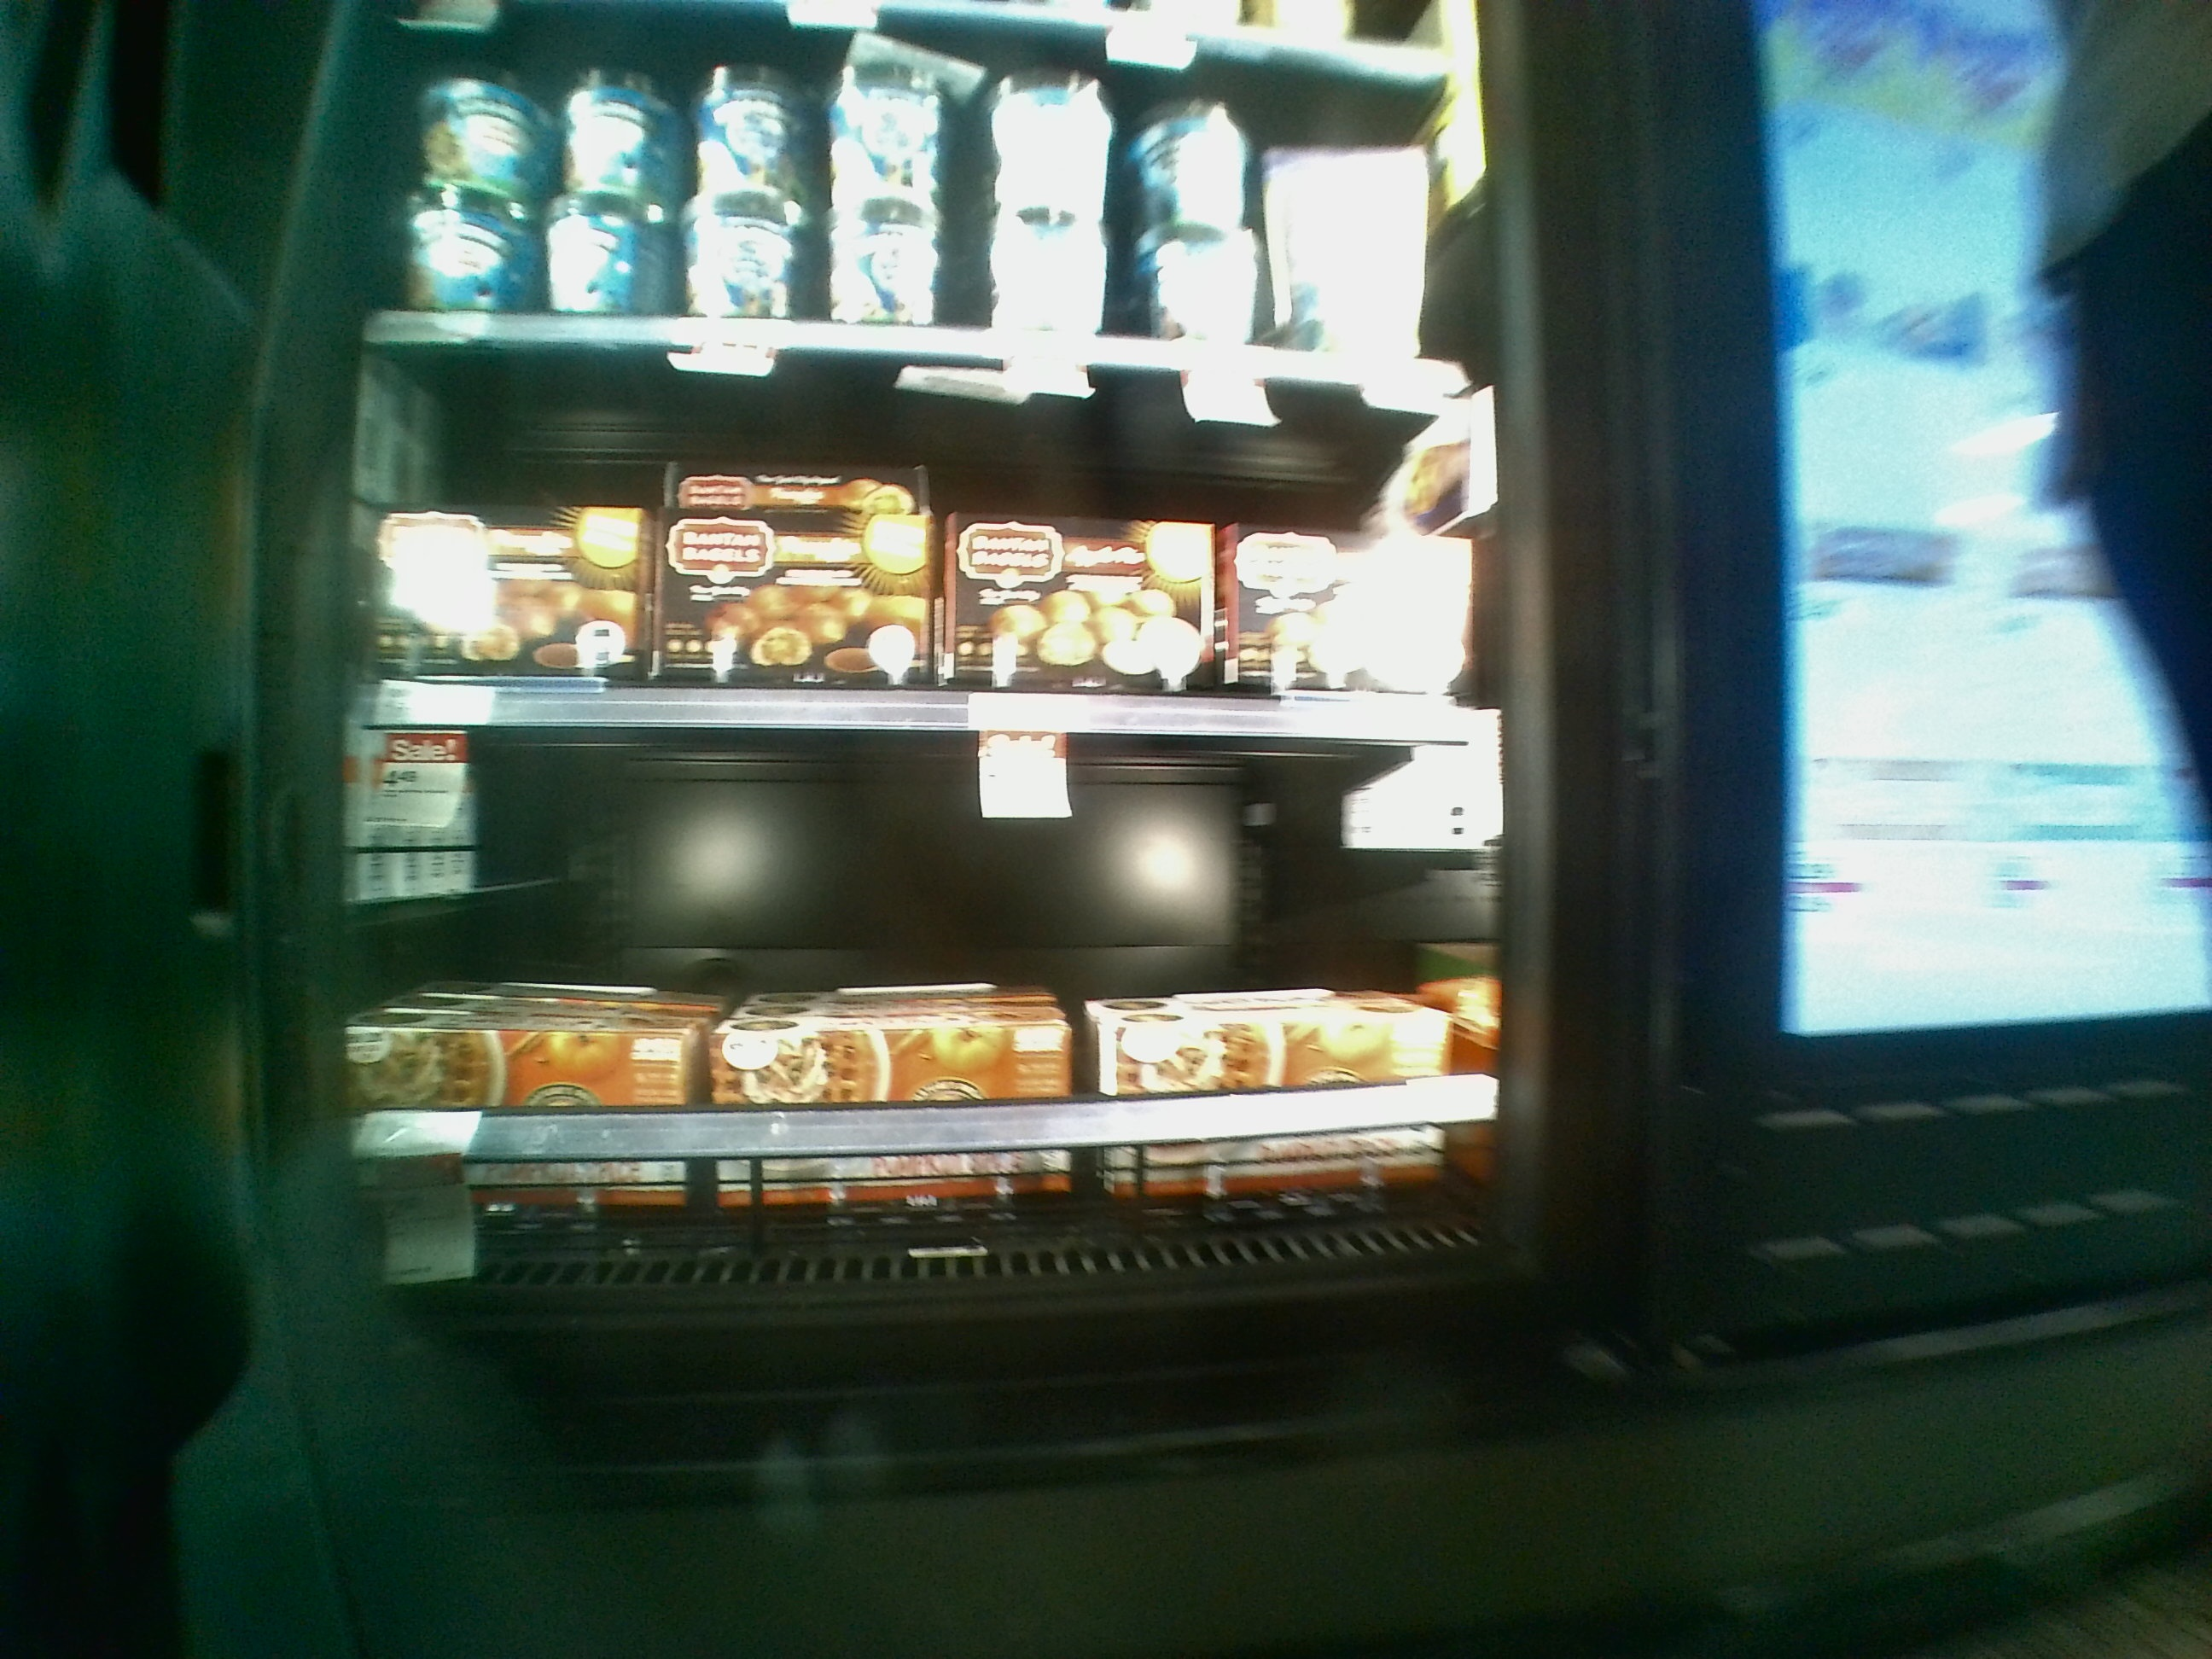shelf: (324, 721, 1540, 1319), (327, 338, 1522, 746)
